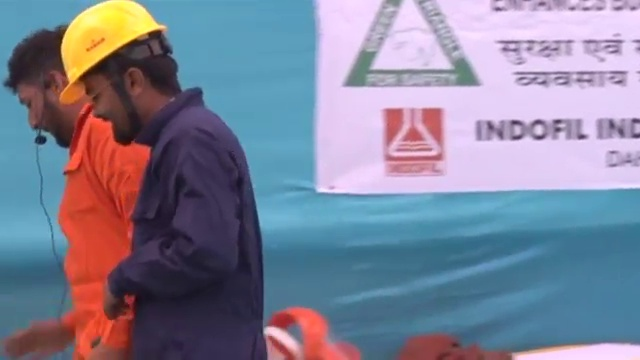helmet: (58, 1, 167, 107)
helmet_off: (6, 22, 77, 148)
helmet_on: (57, 1, 198, 138)
person: (56, 1, 267, 360), (1, 20, 144, 360)
